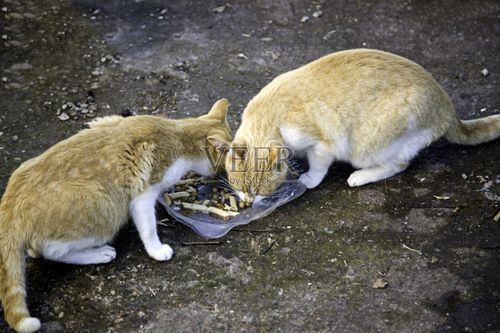cat: (1, 98, 233, 332), (226, 47, 500, 205)
